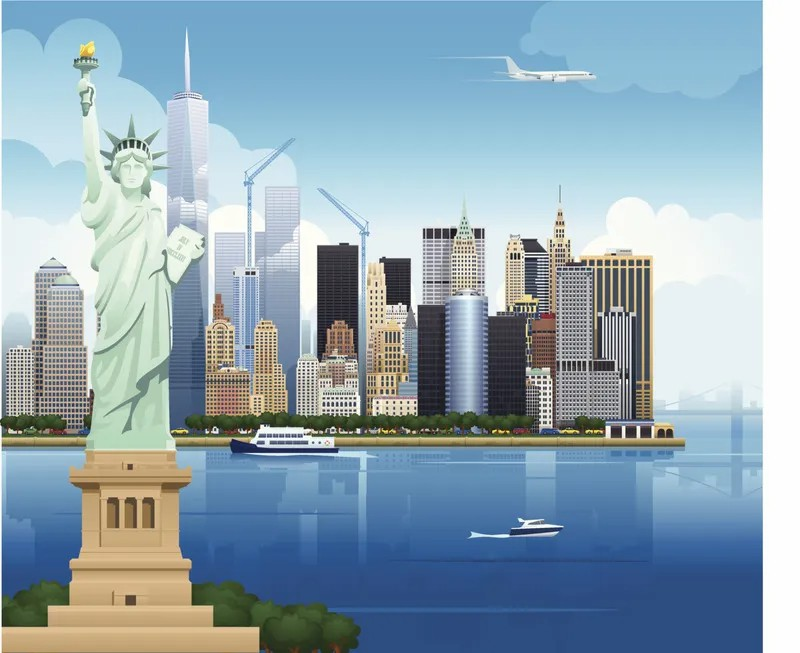SL: (69, 40, 205, 604)
